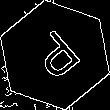P_SE: (23, 24, 87, 86)
